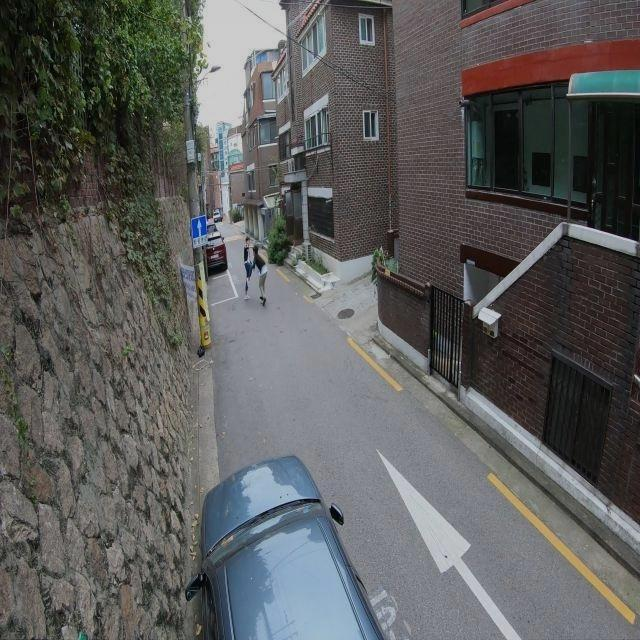fight: (242, 239, 269, 306)
